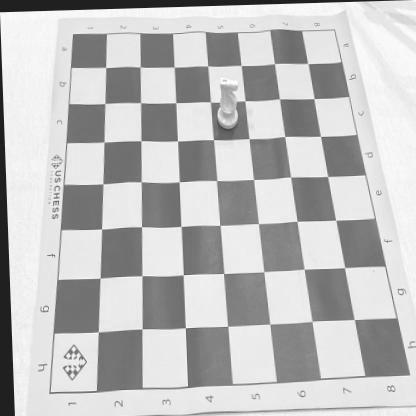white-knight: (214, 76, 240, 130)
